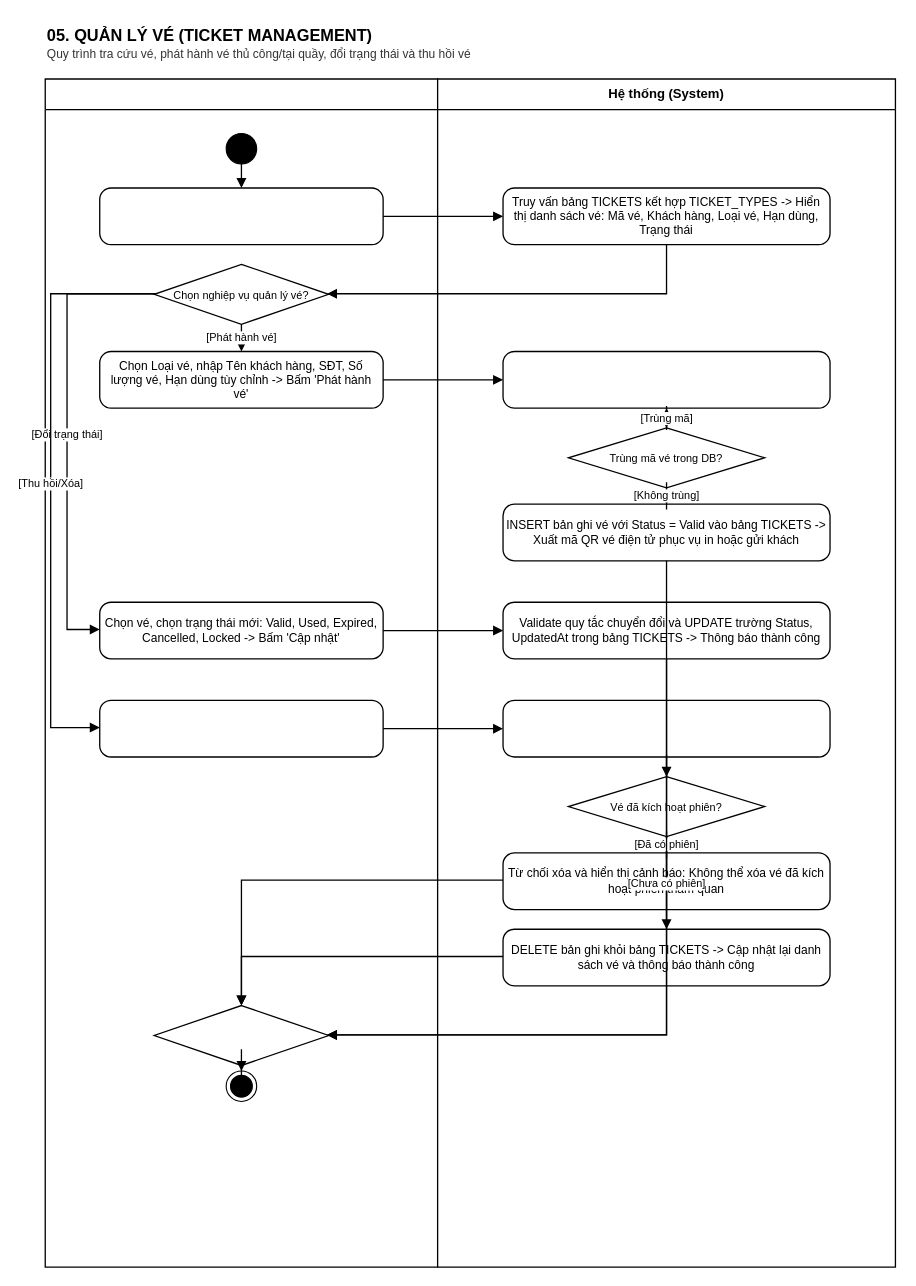
The diagram is 916 pixels wide and 1286 high, and some of its shapes have lost their labels. The box of each missing label's shape, as (x1, y1, x2, y2) in pixels:
Chọn vé, bấm nút 'Xóa vé' và xác nhận: (99, 699, 383, 757)
Hợp nhất: (153, 1004, 329, 1066)
Kiểm tra loại vé và sinh mã vé ngẫu nhiên bảo mật (TKT-xxxxxxxx): (502, 350, 830, 408)
Kiểm tra ràng buộc: Kiểm tra phiên tham quan trong bảng TICKET_SESSIONS: (502, 699, 830, 757)
Người dùng (Administrator / Staff): (44, 78, 438, 1267)
Truy cập phân hệ Quản lý vé: (99, 187, 383, 245)
